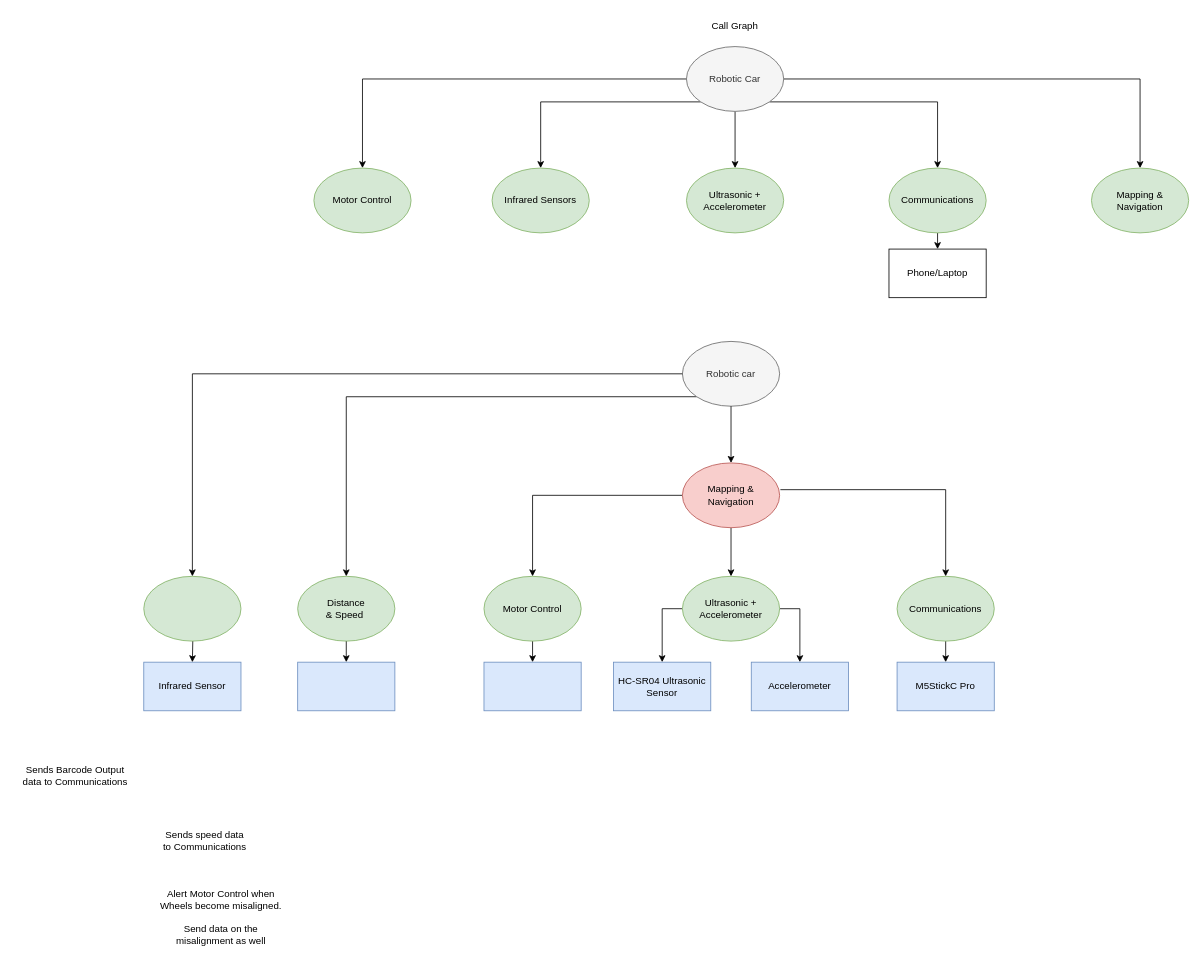
The diagram is 1203 pixels wide and 967 high, and some of its shapes have lost their labels. Each missing label, with the centre of its shape:
Barcode Reader: pixel 192 608
L298 Motor Driver: pixel 532 686
Wheel Encoder (HC-020K Photoelectric encoders): pixel 346 686
